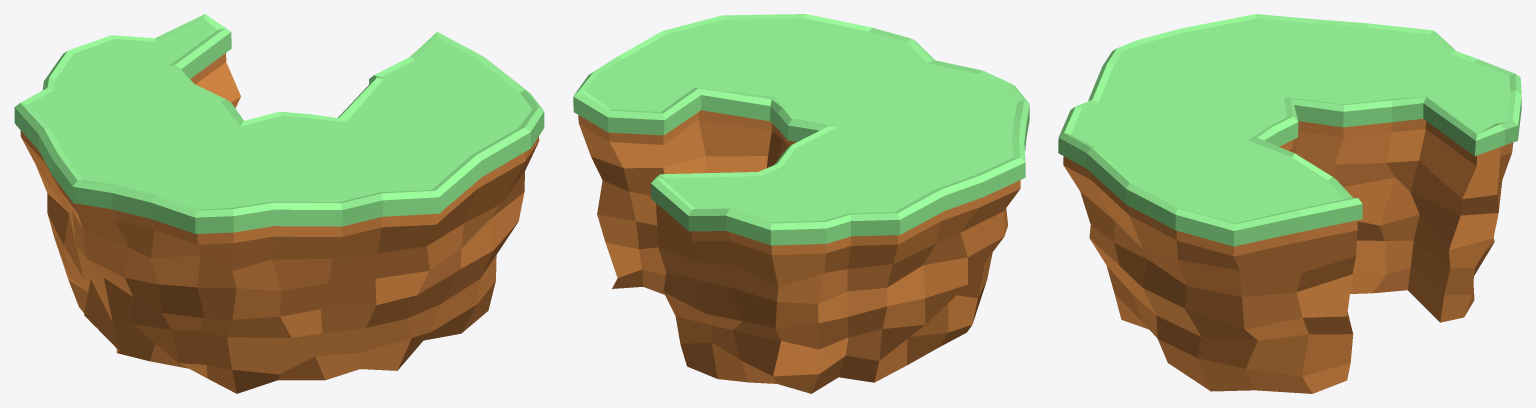
Rendered from C cave.fbx.
3 views of the same model, side by side, from view 1: azimuth 30°, elevation 25°; view 2: azimuth 150°, elevation 25°; view 3: azimuth 270°, elevation 25° (orthographic). The views are drawn at different scales.
Parts seen in each view (by area): view 1: Plane.001; view 2: Plane.001; view 3: Plane.001.
Part boxes in pixels (bbox=[...]): Plane.001: bbox=[14, 14, 544, 393]; Plane.001: bbox=[573, 14, 1029, 393]; Plane.001: bbox=[1058, 14, 1521, 393].
Size of the model in its own units: 468 by 224 by 442.
